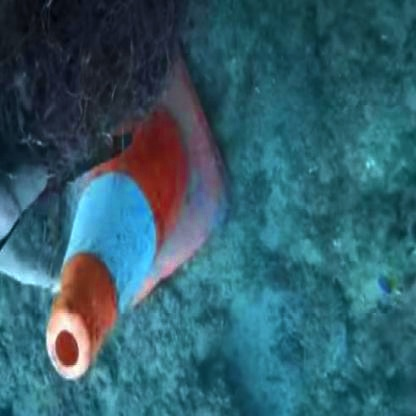misc: (38, 84, 251, 371)
